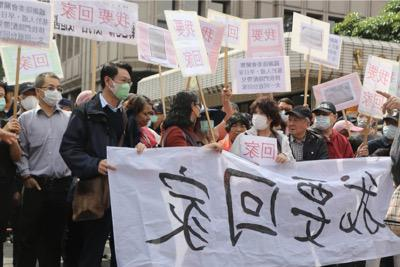with_mask: (39, 83, 63, 107), (112, 76, 133, 101), (19, 90, 38, 111), (251, 109, 269, 131), (313, 112, 332, 131), (197, 115, 215, 135), (382, 121, 399, 142), (355, 112, 373, 131), (276, 106, 293, 123), (192, 103, 203, 126), (149, 111, 159, 124)
without_mask: (286, 115, 305, 137), (229, 122, 246, 142), (137, 110, 151, 129)
